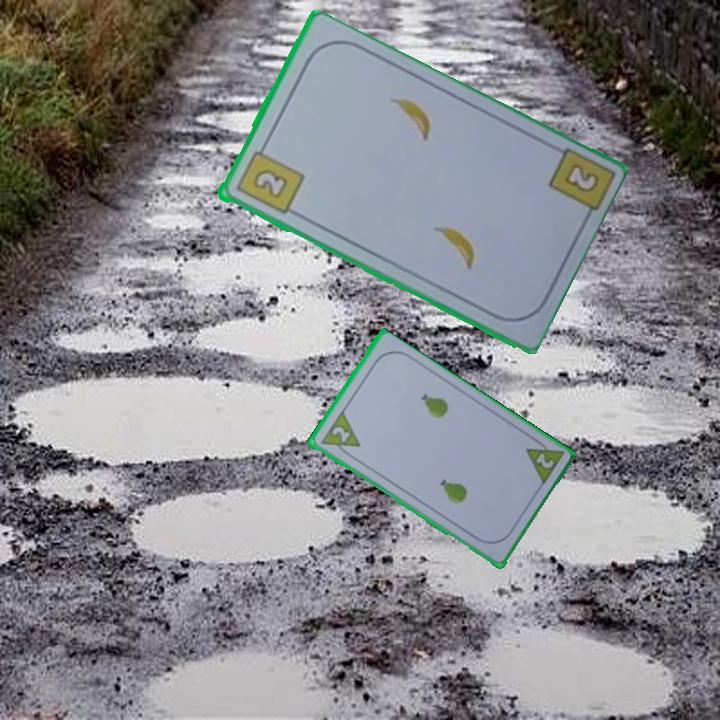2b: (231, 139, 307, 218), (560, 159, 602, 196)
2p: (521, 433, 567, 489), (327, 422, 353, 445)
